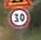limite 30: (7, 6, 31, 28)
